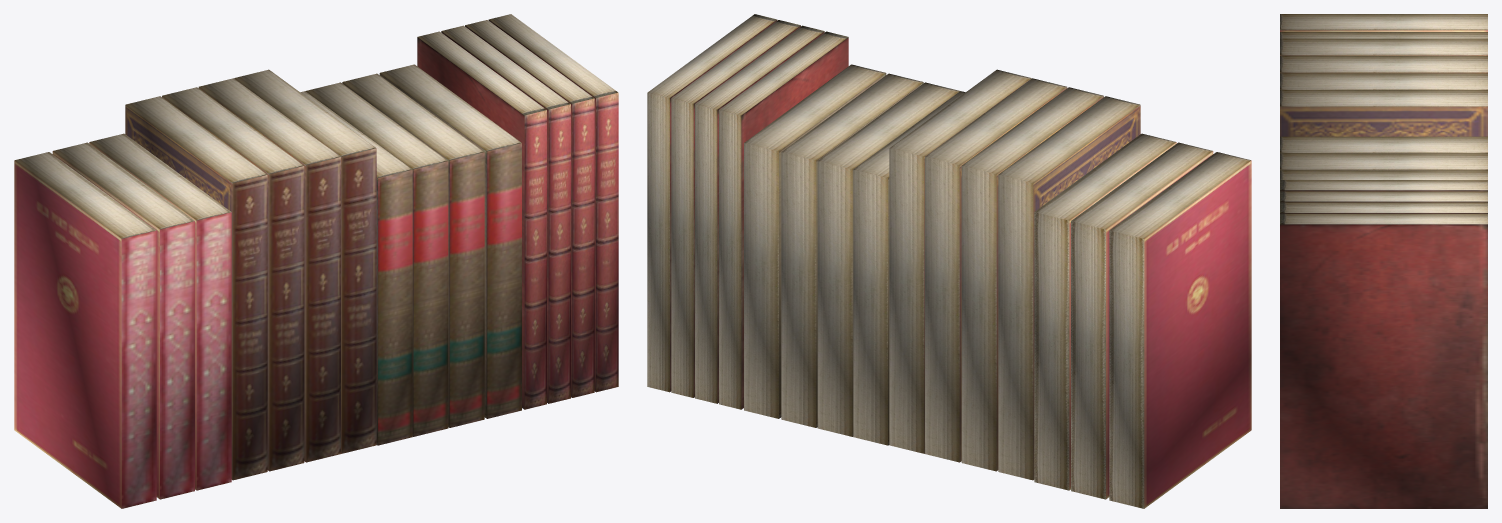
The model's file is off_books2.fbx.
The picture shows the model from 3 angles, left to right: view 1: azimuth 30°, elevation 25°; view 2: azimuth 150°, elevation 25°; view 3: azimuth 270°, elevation 25°; orthographic projection. The views are drawn at different scales.
Visible parts, largest first — view 1: Book1, Book4, Book5, Book6, Book2, Book7, Book11, Book3, Book10, Book9, Book12, Book8 (+3 smaller); view 2: Book1, Book4, Book5, Book6, Book2, Book7, Book11, Book3, Book10, Book9, Book12, Book8 (+3 smaller); view 3: Book15, Book7, Book1, Book4, Book5, Book8, Book9, Book6, Book12, Book13, Book14, Book10 (+1 smaller).
Boxes of the visible parts, box(x1,y1,x2,y2) form: Book1: box(14, 152, 156, 508); Book4: box(125, 96, 267, 480); Book5: box(162, 87, 304, 471); Book6: box(198, 78, 340, 462); Book2: box(52, 142, 194, 499); Book7: box(234, 69, 376, 453); Book11: box(379, 64, 521, 418); Book3: box(89, 133, 231, 490); Book10: box(342, 73, 484, 427); Book9: box(306, 82, 448, 436); Book12: box(417, 31, 546, 409); Book8: box(300, 91, 412, 445); Book1: box(1109, 152, 1251, 508); Book4: box(998, 96, 1140, 480); Book5: box(961, 87, 1103, 471); Book6: box(925, 78, 1067, 462); Book2: box(1071, 142, 1213, 499); Book7: box(889, 69, 1031, 453); Book11: box(744, 64, 886, 418); Book3: box(1034, 133, 1176, 490); Book10: box(781, 73, 923, 427); Book9: box(817, 82, 959, 436); Book12: box(719, 31, 848, 409); Book8: box(853, 91, 965, 445); Book15: box(1280, 213, 1487, 508); Book7: box(1280, 90, 1487, 136); Book1: box(1280, 14, 1487, 31); Book4: box(1280, 38, 1487, 55); Book5: box(1280, 56, 1487, 73); Book8: box(1280, 136, 1487, 153); Book9: box(1280, 153, 1487, 170); Book6: box(1280, 73, 1487, 89); Book12: box(1280, 180, 1487, 191); Book13: box(1280, 191, 1487, 202); Book14: box(1280, 202, 1487, 213); Book10: box(1280, 170, 1487, 179).
Bounding box in the file's own units: 1.45 × 0.8355 × 0.5447.
